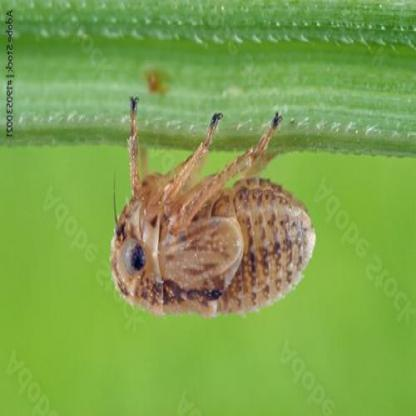brown-planthopper: (109, 109, 317, 318)
